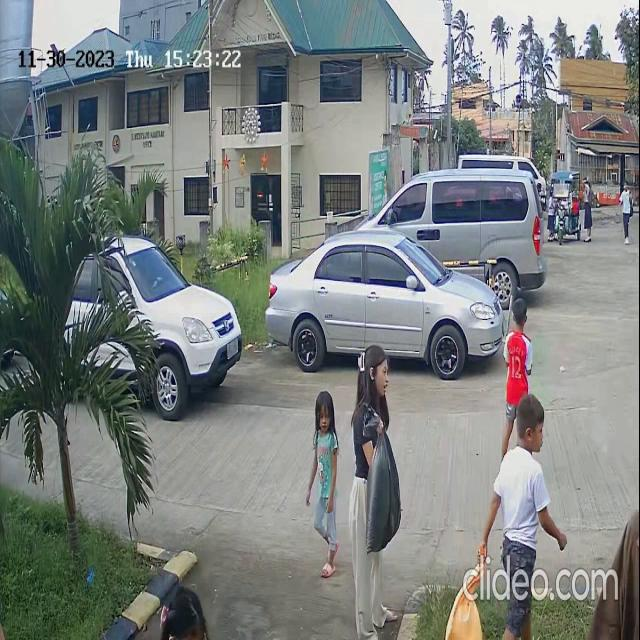person: (503, 394, 557, 486), (308, 391, 339, 496), (350, 340, 396, 409), (504, 297, 532, 399)
